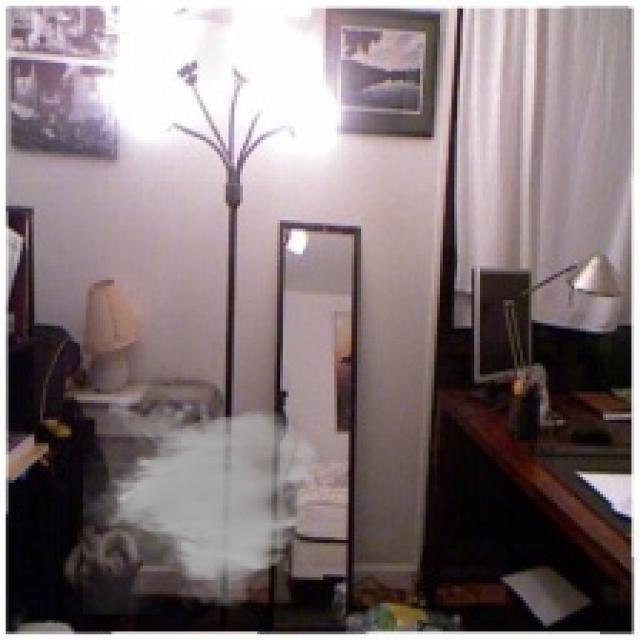smoke: (83, 386, 323, 614)
